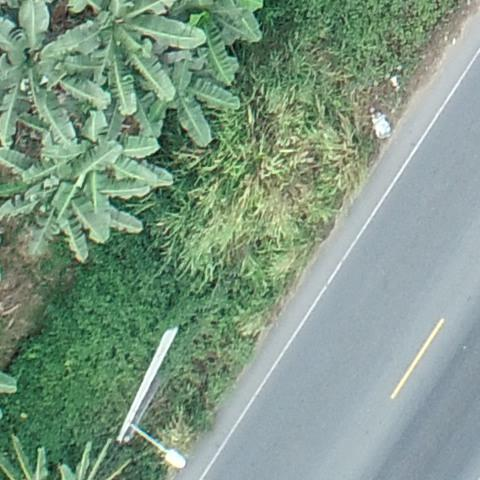Banana-plant: (5, 144, 133, 266), (0, 6, 113, 136), (72, 1, 204, 111), (130, 48, 242, 143)
